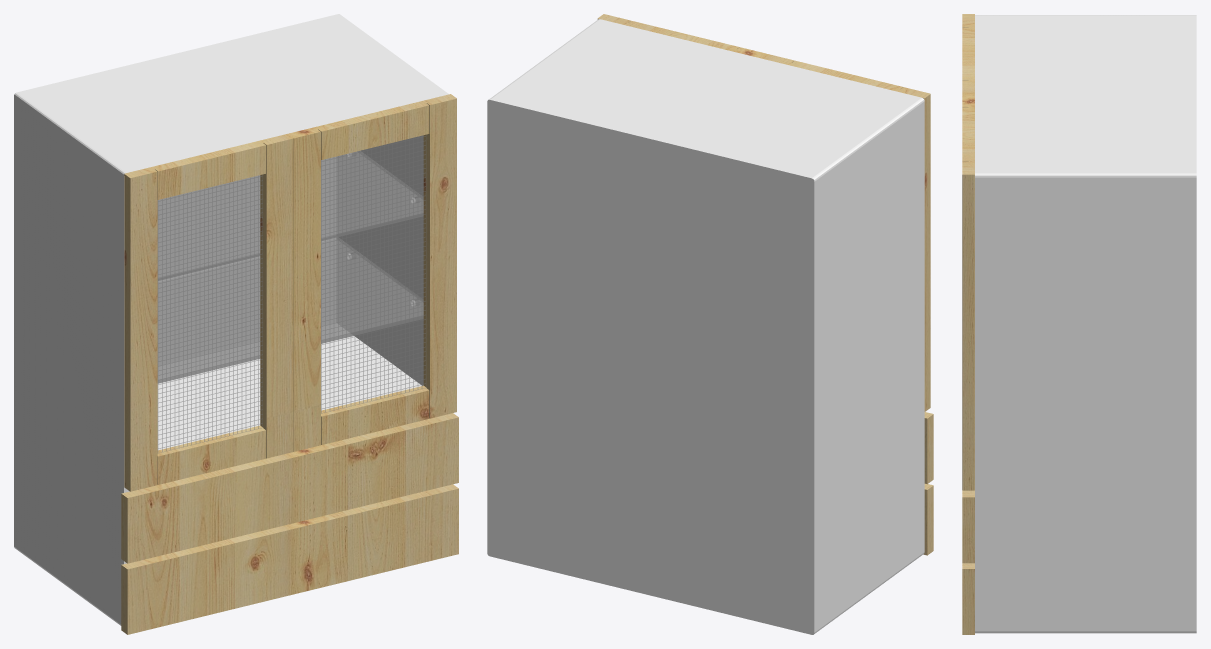
File: METOD_Base_Cabinet_with_Shelves_White_Ringhult_White.obj
3 views of the same model, side by side, from view 1: azimuth 30°, elevation 25°; view 2: azimuth 150°, elevation 25°; view 3: azimuth 270°, elevation 25° (orthographic).
Parts seen in each view (by area): view 1: Box009, Box011, Box010, Box002, Box003, Box005, Box004, 001, 010; view 2: Box009, Box011, Box010, Box003, Box002; view 3: Box009, Box010, Box011, Box003, Box002.
Part boxes in pixels (x1,y1,x2,y2): Box009: [14, 14, 448, 625]; Box011: [124, 134, 293, 491]; Box010: [288, 94, 456, 451]; Box002: [121, 484, 458, 634]; Box003: [121, 413, 458, 563]; Box005: [158, 237, 423, 383]; Box004: [158, 151, 423, 280]; 001: [321, 135, 426, 413]; 010: [157, 175, 262, 453]; Box009: [487, 19, 924, 634]; Box011: [761, 54, 930, 411]; Box010: [597, 14, 766, 58]; Box003: [924, 412, 933, 484]; Box002: [923, 483, 933, 555]; Box009: [975, 15, 1196, 633]; Box010: [962, 94, 974, 490]; Box011: [962, 14, 974, 94]; Box003: [962, 490, 974, 563]; Box002: [962, 563, 974, 634].
Size of the model in its own units: 60.83 by 80 by 37.
